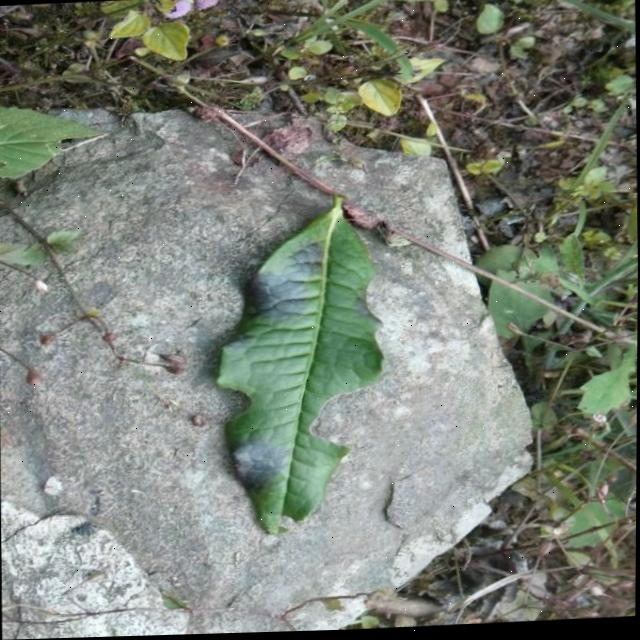Tea exobasidium blight: (239, 241, 338, 323), (229, 433, 295, 495)
